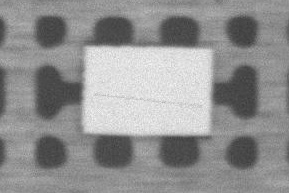DIE_CRACK: (141, 63, 289, 71)
